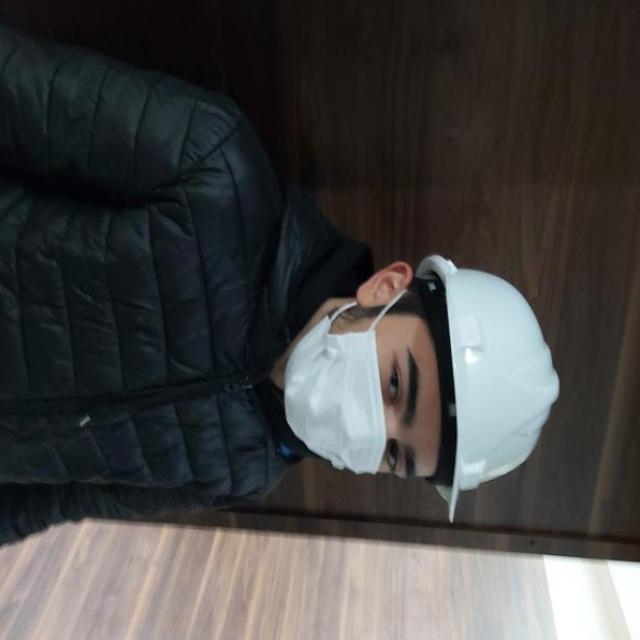helmet: (412, 252, 560, 524)
